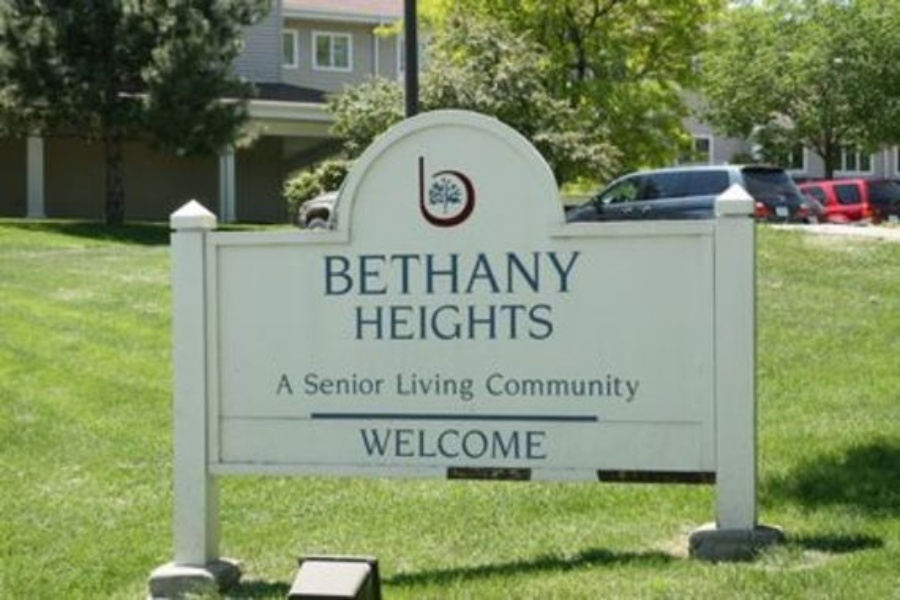text: (337, 250, 352, 297), (353, 250, 368, 297), (369, 250, 384, 297), (385, 250, 400, 297), (401, 250, 416, 297), (417, 250, 432, 297), (433, 250, 448, 297), (449, 250, 464, 297), (465, 250, 480, 297), (481, 250, 496, 297), (497, 250, 512, 297), (513, 250, 528, 297), (529, 250, 544, 297), (545, 250, 560, 297), (561, 250, 576, 297), (369, 301, 384, 342), (385, 301, 400, 342), (401, 301, 416, 342), (417, 301, 432, 342), (433, 301, 448, 342), (449, 301, 464, 342), (465, 301, 480, 342), (481, 301, 496, 342), (497, 301, 512, 342), (513, 301, 528, 342), (529, 301, 544, 342), (354, 301, 368, 342), (324, 250, 336, 297), (401, 368, 416, 403), (417, 368, 432, 403), (433, 368, 448, 403), (449, 368, 464, 403), (497, 372, 512, 405), (513, 372, 528, 405), (529, 372, 544, 405), (545, 372, 560, 405), (561, 372, 576, 405), (577, 372, 592, 405), (593, 372, 608, 405), (609, 372, 624, 405), (625, 372, 640, 405), (369, 427, 384, 460), (385, 427, 400, 460), (401, 427, 416, 460), (417, 427, 432, 460), (433, 427, 448, 460), (449, 427, 464, 460), (465, 427, 480, 460), (481, 427, 496, 460), (497, 427, 512, 460), (513, 427, 528, 460), (529, 427, 544, 460), (545, 301, 556, 342), (305, 370, 320, 397), (321, 370, 336, 397), (337, 370, 352, 397), (353, 370, 368, 397), (369, 370, 384, 397), (465, 368, 476, 403), (485, 372, 496, 405), (359, 427, 368, 460), (577, 250, 583, 297), (394, 368, 400, 403), (289, 372, 296, 397), (282, 372, 288, 397), (545, 427, 547, 460), (385, 370, 387, 397), (641, 372, 642, 405)
